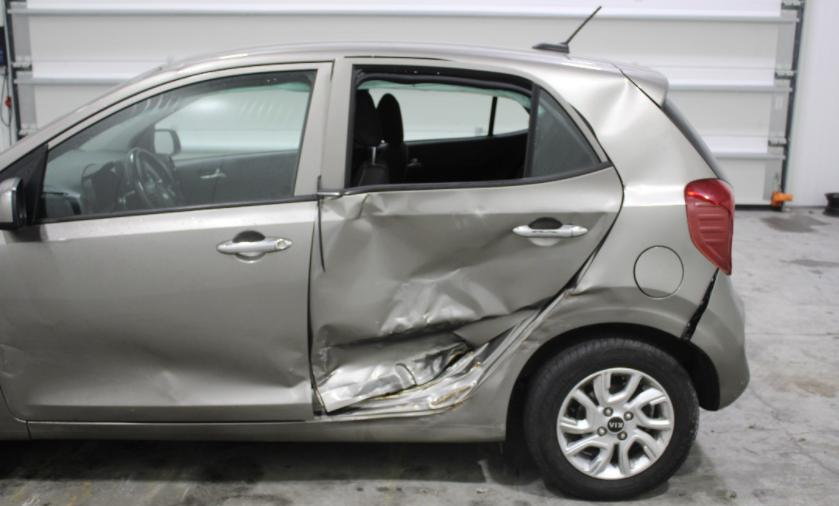Back-bumper: (690, 270, 750, 409)
Back-door: (309, 57, 623, 422)
Back-wheel: (523, 338, 699, 499)
Back-window: (345, 66, 601, 191)
Back-windshield: (663, 99, 725, 179)
Front-door: (1, 61, 335, 424)
Front-window: (37, 62, 332, 221)
Mirror: (0, 144, 48, 242)
Quarter-panel: (475, 180, 719, 389)
Rocker-panel: (2, 386, 511, 443)
Roof: (162, 42, 623, 73)
Tail-light: (684, 178, 735, 275), (685, 178, 735, 276)
Trunk: (613, 61, 668, 108)
